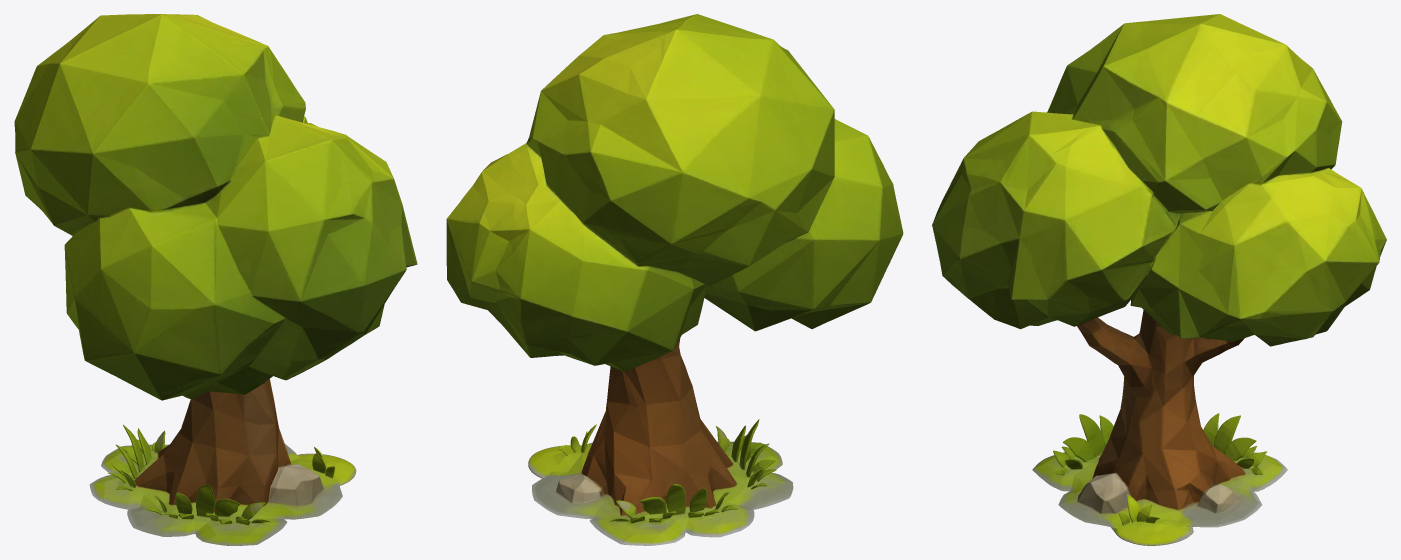
Rendered from KeepSakeOldTreeV2.glb.
The picture shows the model from 3 angles, left to right: view 1: azimuth 30°, elevation 25°; view 2: azimuth 150°, elevation 25°; view 3: azimuth 270°, elevation 25°; orthographic projection. The views are drawn at different scales.
Parts seen in each view (by area): view 1: tripo_node_2985ca3f-99c8-4631-9a04-c6a625e0ec2e; view 2: tripo_node_2985ca3f-99c8-4631-9a04-c6a625e0ec2e; view 3: tripo_node_2985ca3f-99c8-4631-9a04-c6a625e0ec2e.
Part boxes in pixels (x1,y1,x2,y2): tripo_node_2985ca3f-99c8-4631-9a04-c6a625e0ec2e: (14, 14, 417, 545); tripo_node_2985ca3f-99c8-4631-9a04-c6a625e0ec2e: (446, 14, 903, 545); tripo_node_2985ca3f-99c8-4631-9a04-c6a625e0ec2e: (932, 14, 1386, 545).
Size of the model in its own units: 0.7076 by 0.9794 by 0.9033.
Materials: 1 (1 with a texture image).
